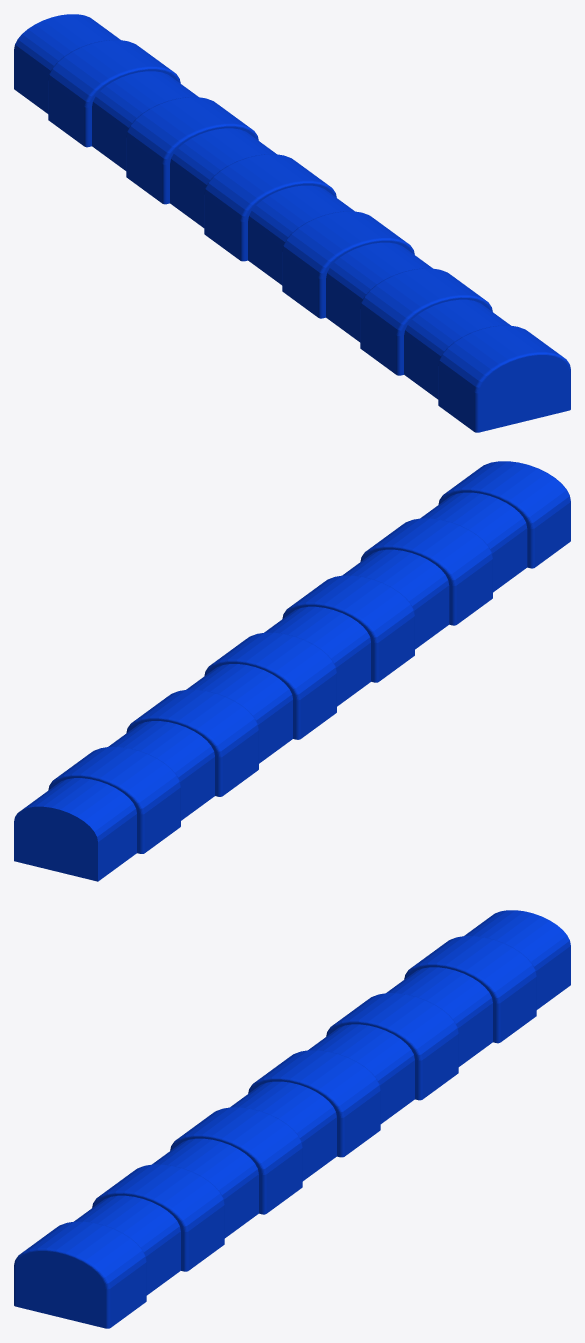
Rendered from lpz3.fbx.
3 views of the same model, one above another, from view 1: azimuth 30°, elevation 25°; view 2: azimuth 150°, elevation 25°; view 3: azimuth 330°, elevation 25° (orthographic).
Visible parts, largest first — view 1: pCylinder3, pCylinder1, pCylinder6, pCylinder8, pCylinder2, pCylinder7; view 2: pCylinder8, pCylinder2, pCylinder1, pCylinder6, pCylinder3, pCylinder7; view 3: pCylinder3, pCylinder1, pCylinder6, pCylinder8, pCylinder2, pCylinder7.
Part boxes in pixels (x1=…): pCylinder3: x1=404, y1=299, x2=570, y2=432; pCylinder1: x1=248, y1=185, x2=414, y2=318; pCylinder6: x1=170, y1=128, x2=336, y2=261; pCylinder8: x1=14, y1=14, x2=180, y2=147; pCylinder2: x1=326, y1=242, x2=492, y2=375; pCylinder7: x1=92, y1=71, x2=258, y2=204; pCylinder8: x1=14, y1=747, x2=180, y2=881; pCylinder2: x1=342, y1=518, x2=492, y2=649; pCylinder1: x1=264, y1=575, x2=414, y2=706; pCylinder6: x1=186, y1=632, x2=336, y2=763; pCylinder3: x1=420, y1=461, x2=570, y2=592; pCylinder7: x1=108, y1=689, x2=258, y2=820; pCylinder3: x1=14, y1=1195, x2=180, y2=1328; pCylinder1: x1=170, y1=1081, x2=336, y2=1214; pCylinder6: x1=248, y1=1024, x2=414, y2=1157; pCylinder8: x1=404, y1=910, x2=570, y2=1043; pCylinder2: x1=92, y1=1138, x2=258, y2=1271; pCylinder7: x1=326, y1=967, x2=492, y2=1100.
Size of the model in its own units: 8.53 by 5.59 by 72.
